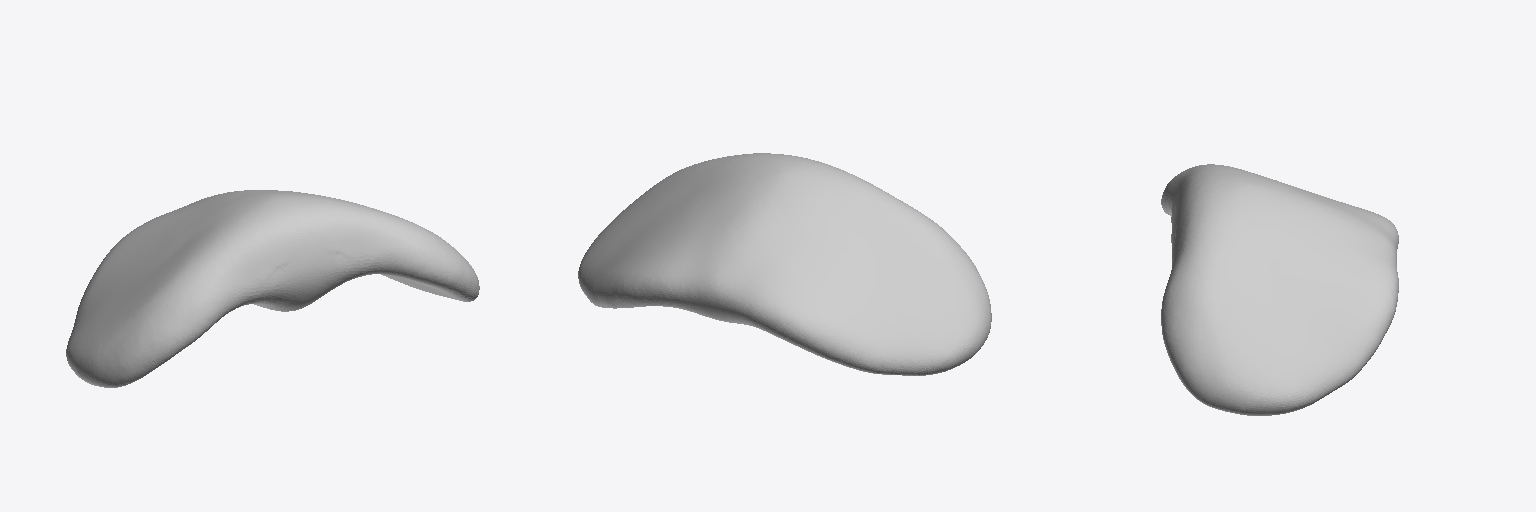
File: shell3.obj
3 views of the same model, side by side, from view 1: azimuth 30°, elevation 25°; view 2: azimuth 150°, elevation 25°; view 3: azimuth 270°, elevation 25° (orthographic).
Visible parts, largest first — view 1: Group6084; view 2: Group6084; view 3: Group6084.
Boxes of the visible parts, x1=… form: Group6084: x1=66, y1=190, x2=479, y2=387; Group6084: x1=578, y1=153, x2=991, y2=375; Group6084: x1=1161, y1=164, x2=1398, y2=415.
Size of the model in its own units: 0.5391 by 0.1953 by 0.2879.